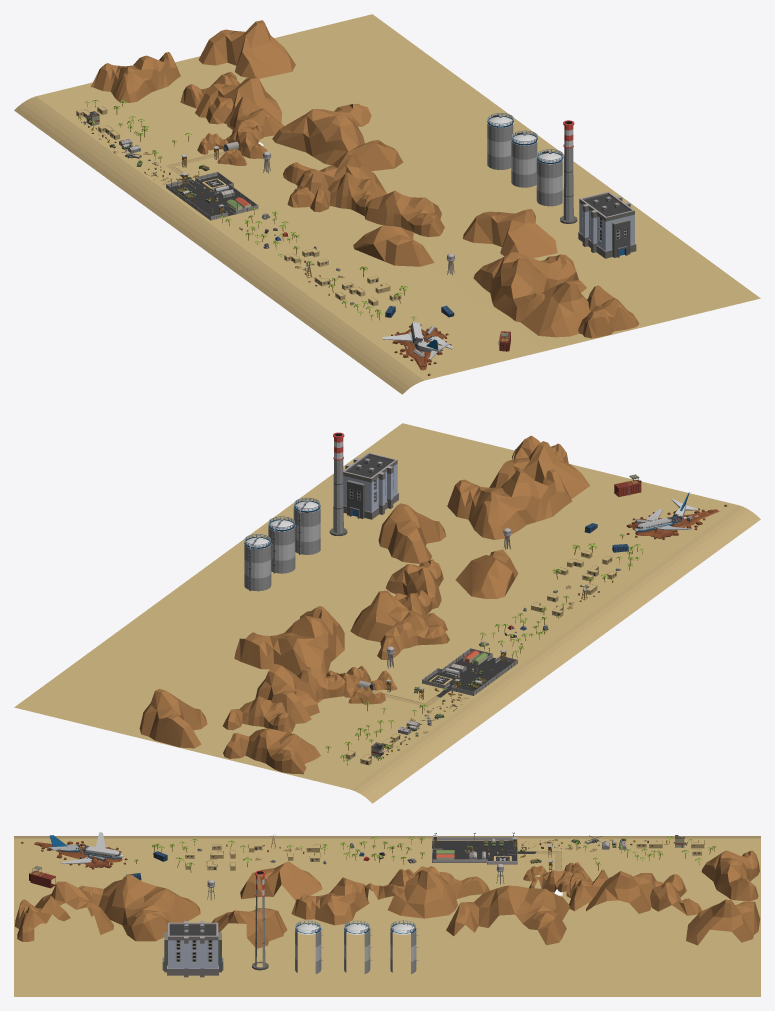
The model's file is _lvl_desert_bg_1.glb.
3 views of the same model, one above another, from view 1: azimuth 30°, elevation 25°; view 2: azimuth 150°, elevation 25°; view 3: azimuth 270°, elevation 25° (orthographic). The views are drawn at different scales.
Parts seen in each view (by area): view 1: bg_ground_far_1, SM_Env_Hills_Pack_1, bg_ground_1, bg_near_plane_desert, Building_Power_Main_02, Prop_FuelSilo_02_Medium, Prop_FuelSilo_02_Medium (1), Prop_FuelSilo_02_Medium (2), Env_Nuclear_Smokestack, SA_Prop_PlaneCrash_only_plane, SA_CityWall_Full_1, SA_Prop_PlaneCrash_ground_desert; view 2: bg_ground_far_1, SM_Env_Hills_Pack_1, bg_ground_1, bg_near_plane_desert, Building_Power_Main_02, Prop_FuelSilo_02_Medium (2), Prop_FuelSilo_02_Medium, Prop_FuelSilo_02_Medium (1), Env_Nuclear_Smokestack, SA_Prop_PlaneCrash_only_plane, SA_Prop_PlaneCrash_ground_desert, SA_CityWall_Full_1; view 3: bg_ground_far_1, SM_Env_Hills_Pack_1, bg_ground_1, Building_Power_Main_02, bg_near_plane_desert, SA_Prop_PlaneCrash_only_plane, SA_CityWall_Full_1, Prop_FuelSilo_02_Medium, Prop_FuelSilo_02_Medium (1), SA_Prop_PlaneCrash_ground_desert, Prop_FuelSilo_02_Medium (2), Env_Nuclear_Smokestack (+2 smaller).
Boxes of the visible parts, x1,y1,x2,y2 form: bg_ground_far_1: [175, 14, 760, 350]; SM_Env_Hills_Pack_1: [90, 20, 639, 338]; bg_ground_1: [36, 80, 544, 380]; bg_near_plane_desert: [14, 96, 423, 394]; Building_Power_Main_02: [578, 191, 636, 258]; Prop_FuelSilo_02_Medium: [536, 149, 563, 206]; Prop_FuelSilo_02_Medium (1): [511, 130, 538, 187]; Prop_FuelSilo_02_Medium (2): [487, 113, 514, 169]; Env_Nuclear_Smokestack: [560, 120, 577, 223]; SA_Prop_PlaneCrash_only_plane: [382, 322, 453, 363]; SA_CityWall_Full_1: [166, 171, 258, 220]; SA_Prop_PlaneCrash_ground_desert: [391, 324, 451, 375]; bg_ground_far_1: [14, 423, 617, 759]; SM_Env_Hills_Pack_1: [139, 435, 589, 774]; bg_ground_1: [230, 476, 738, 789]; bg_near_plane_desert: [351, 505, 760, 803]; Building_Power_Main_02: [343, 452, 398, 519]; Prop_FuelSilo_02_Medium (2): [244, 534, 271, 591]; Prop_FuelSilo_02_Medium: [293, 497, 320, 554]; Prop_FuelSilo_02_Medium (1): [268, 516, 295, 573]; Env_Nuclear_Smokestack: [329, 432, 347, 535]; SA_Prop_PlaneCrash_only_plane: [634, 492, 707, 532]; SA_Prop_PlaneCrash_ground_desert: [626, 504, 726, 539]; SA_CityWall_Full_1: [422, 648, 517, 695]; bg_ground_far_1: [14, 895, 760, 996]; SM_Env_Hills_Pack_1: [15, 850, 760, 948]; bg_ground_1: [14, 839, 760, 895]; Building_Power_Main_02: [162, 921, 223, 977]; bg_near_plane_desert: [14, 836, 760, 838]; SA_Prop_PlaneCrash_only_plane: [47, 832, 123, 863]; SA_CityWall_Full_1: [432, 837, 517, 864]; Prop_FuelSilo_02_Medium: [295, 920, 323, 973]; Prop_FuelSilo_02_Medium (1): [344, 920, 372, 973]; SA_Prop_PlaneCrash_ground_desert: [21, 841, 127, 869]; Prop_FuelSilo_02_Medium (2): [390, 920, 418, 973]; Env_Nuclear_Smokestack: [252, 870, 268, 970].
Bounding box in the file's own units: 240 × 68.11 × 450.
Materials: 1 (1 with a texture image).
